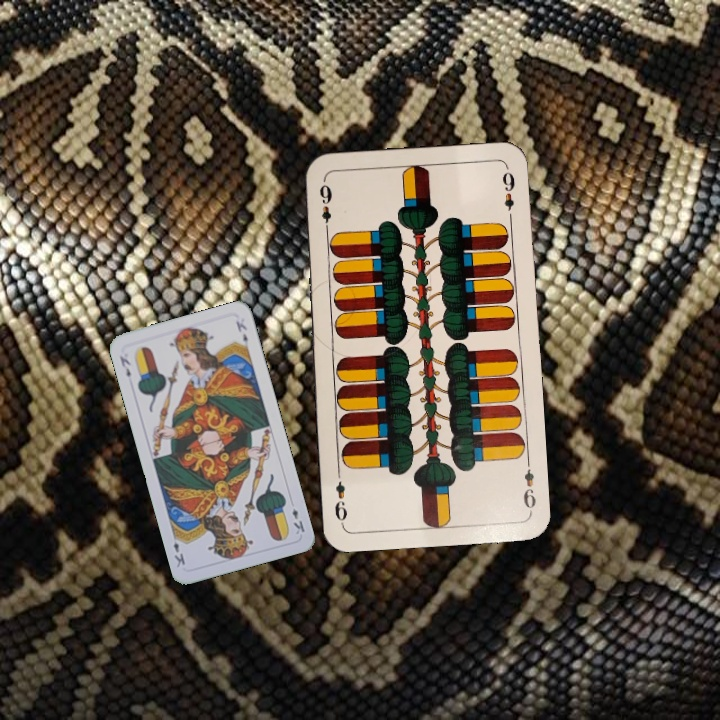E9: (519, 455, 538, 515), (316, 177, 334, 236)
EK: (288, 504, 307, 537), (115, 352, 133, 380)
